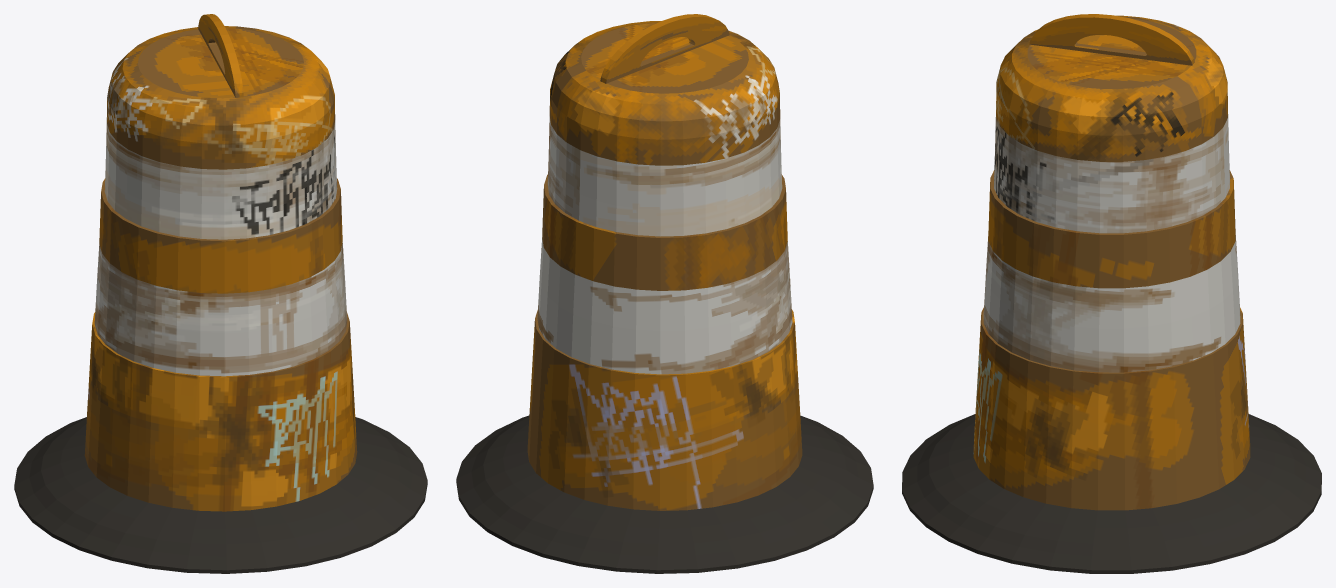
File: SM_Conebarrier.fbx
3 views of the same model, side by side, from view 1: azimuth 30°, elevation 25°; view 2: azimuth 150°, elevation 25°; view 3: azimuth 270°, elevation 25° (orthographic).
Visible parts, largest first — view 1: SM_Barrier1; view 2: SM_Barrier1; view 3: SM_Barrier1.
Part boxes in pixels (<box>): SM_Barrier1: <box>14,14,427,573</box>; SM_Barrier1: <box>456,14,873,573</box>; SM_Barrier1: <box>902,14,1321,573</box>.
Bounding box in the file's own units: 71.47 × 87.96 × 71.47.
